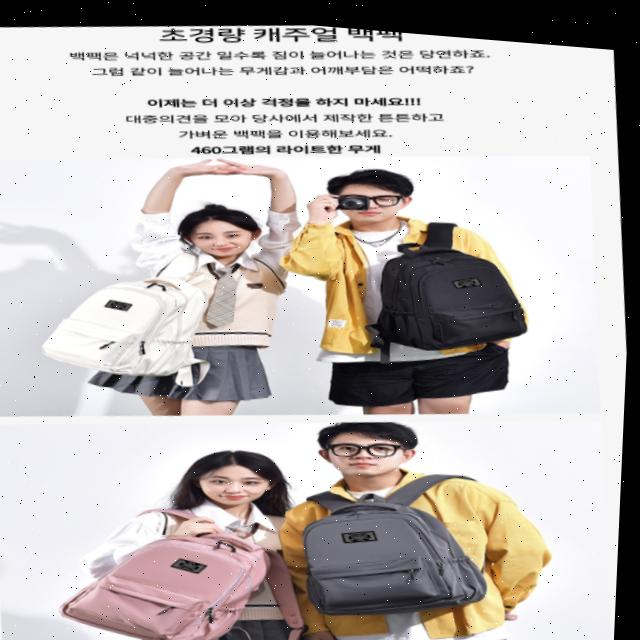backpack: (15, 236, 256, 410), (32, 499, 290, 640), (293, 470, 513, 631), (328, 212, 542, 356)
